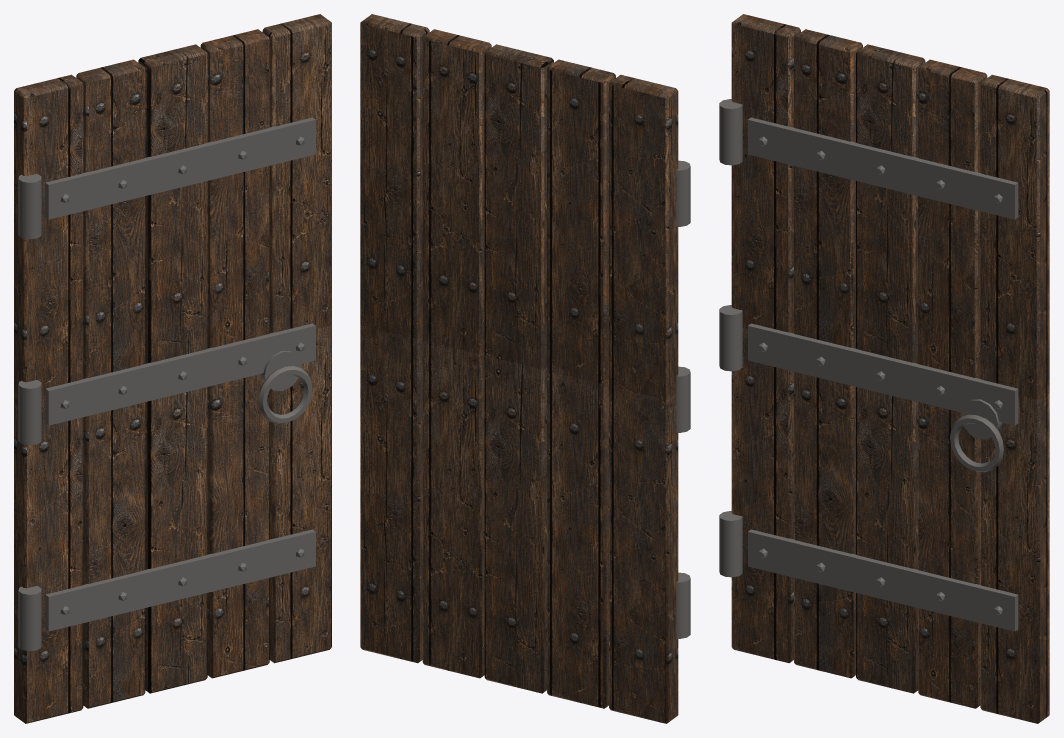
Rendered from wooden-door-v01.glb.
3 views of the same model, side by side, from view 1: azimuth 30°, elevation 25°; view 2: azimuth 150°, elevation 25°; view 3: azimuth 330°, elevation 25° (orthographic).
Visible parts, largest first — view 1: wooden-door; view 2: wooden-door; view 3: wooden-door.
Part boxes in pixels (box(x1,y1,x2,y2)): wooden-door: box(14, 14, 331, 723); wooden-door: box(360, 14, 690, 723); wooden-door: box(719, 14, 1049, 723).
Size of the model in its own units: 1.52 by 2.9 by 0.1773.
Materials: 2 (1 with a texture image).
